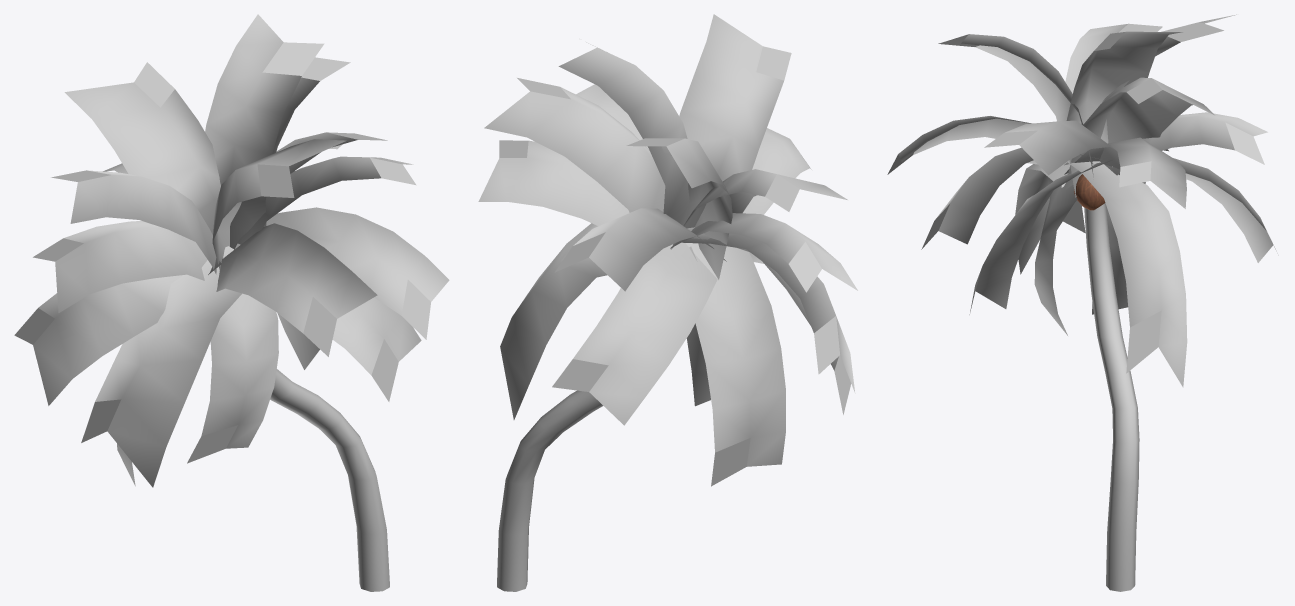
File: Palm_Tree_Curved.fbx
3 views of the same model, side by side, from view 1: azimuth 30°, elevation 25°; view 2: azimuth 150°, elevation 25°; view 3: azimuth 270°, elevation 25° (orthographic). The views are drawn at different scales.
Visible parts, largest first — view 1: polySurface58; view 2: polySurface58; view 3: polySurface58.
Part boxes in pixels (<box>): polySurface58: <box>14,14,449,591</box>; polySurface58: <box>478,14,857,591</box>; polySurface58: <box>887,14,1278,591</box>.
Bounding box in the file's own units: 1106 × 1713 × 1181.
